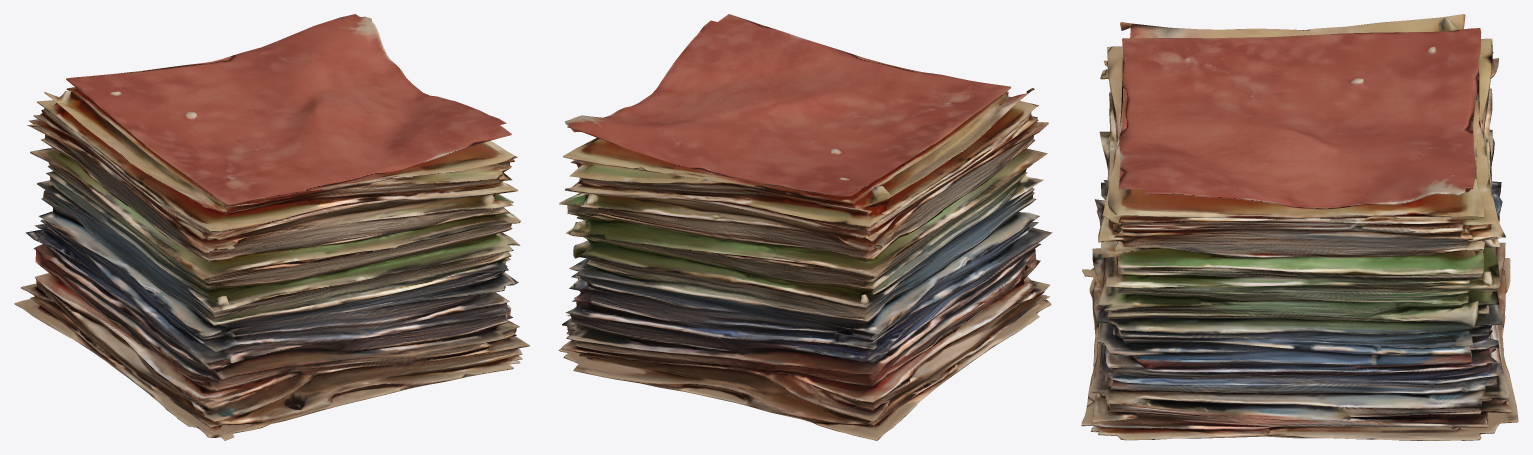
3 views of the same model, side by side, from view 1: azimuth 30°, elevation 25°; view 2: azimuth 150°, elevation 25°; view 3: azimuth 270°, elevation 25° (orthographic). The views are drawn at different scales.
Visible parts, largest first — view 1: tripo_node_14309afa-cda6-4a28-91b9-51b5555349ef; view 2: tripo_node_14309afa-cda6-4a28-91b9-51b5555349ef; view 3: tripo_node_14309afa-cda6-4a28-91b9-51b5555349ef.
Boxes of the visible parts, bbox=[...] form: tripo_node_14309afa-cda6-4a28-91b9-51b5555349ef: bbox=[14, 14, 529, 440]; tripo_node_14309afa-cda6-4a28-91b9-51b5555349ef: bbox=[558, 14, 1052, 440]; tripo_node_14309afa-cda6-4a28-91b9-51b5555349ef: bbox=[1081, 14, 1518, 440].
Size of the model in its own units: 0.9875 by 0.647 by 1.
Materials: 1 (1 with a texture image).
